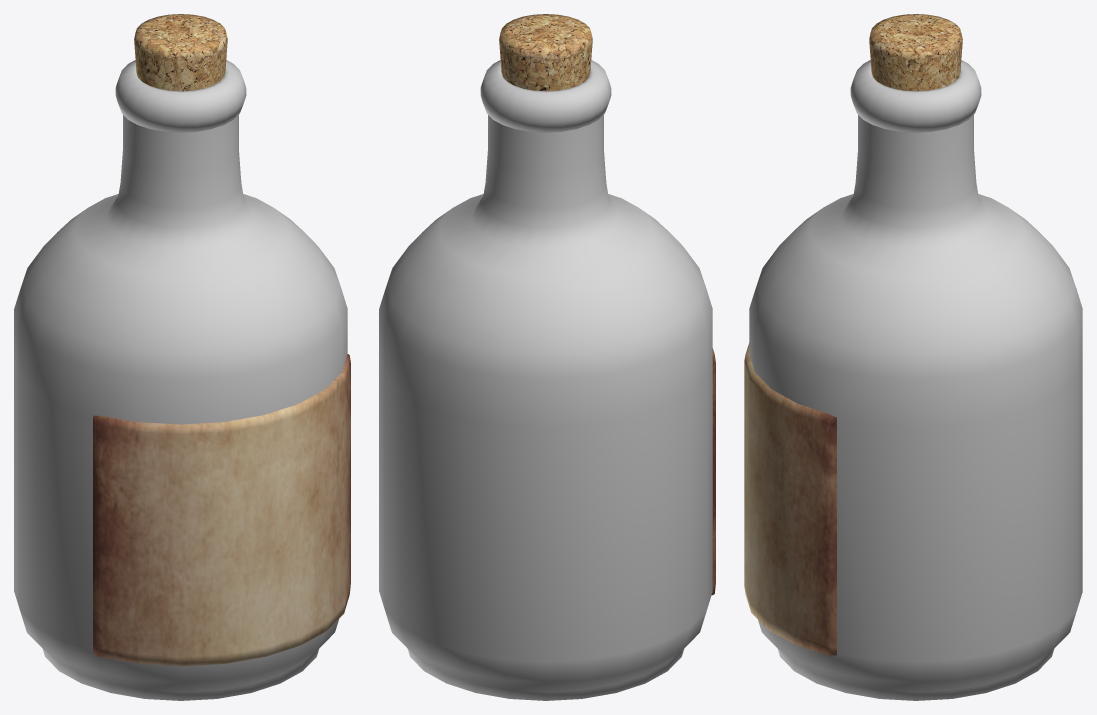
The model's file is Bottle1.fbx.
3 views of the same model, side by side, from view 1: azimuth 30°, elevation 25°; view 2: azimuth 150°, elevation 25°; view 3: azimuth 270°, elevation 25° (orthographic).
Parts seen in each view (by area): view 1: Bottle_LOD0, Cork; view 2: Bottle_LOD0, Cork; view 3: Bottle_LOD0, Cork.
Part boxes in pixels (x1,y1,x2,y2): Bottle_LOD0: (14, 60, 350, 700); Cork: (134, 14, 227, 91); Bottle_LOD0: (379, 60, 715, 700); Cork: (499, 14, 592, 91); Bottle_LOD0: (744, 60, 1082, 700); Cork: (869, 14, 962, 91).
Size of what is drawn, in the model's own units: 24.27 by 48.99 by 24.63.
